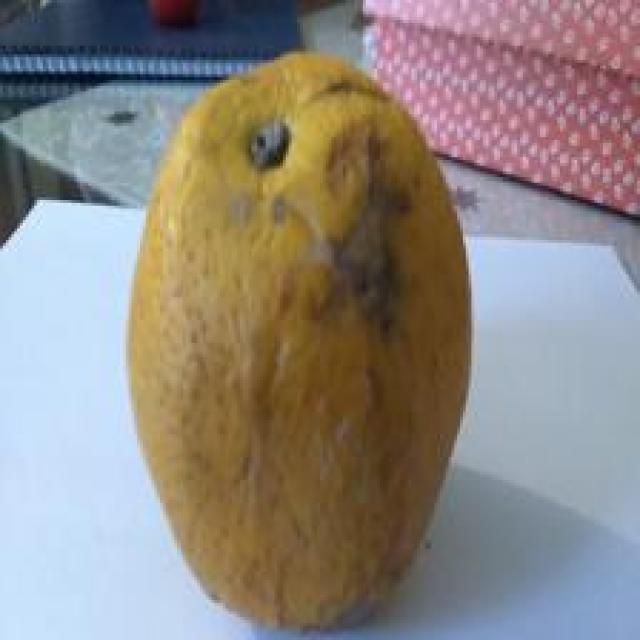overripe: (120, 46, 482, 640)
